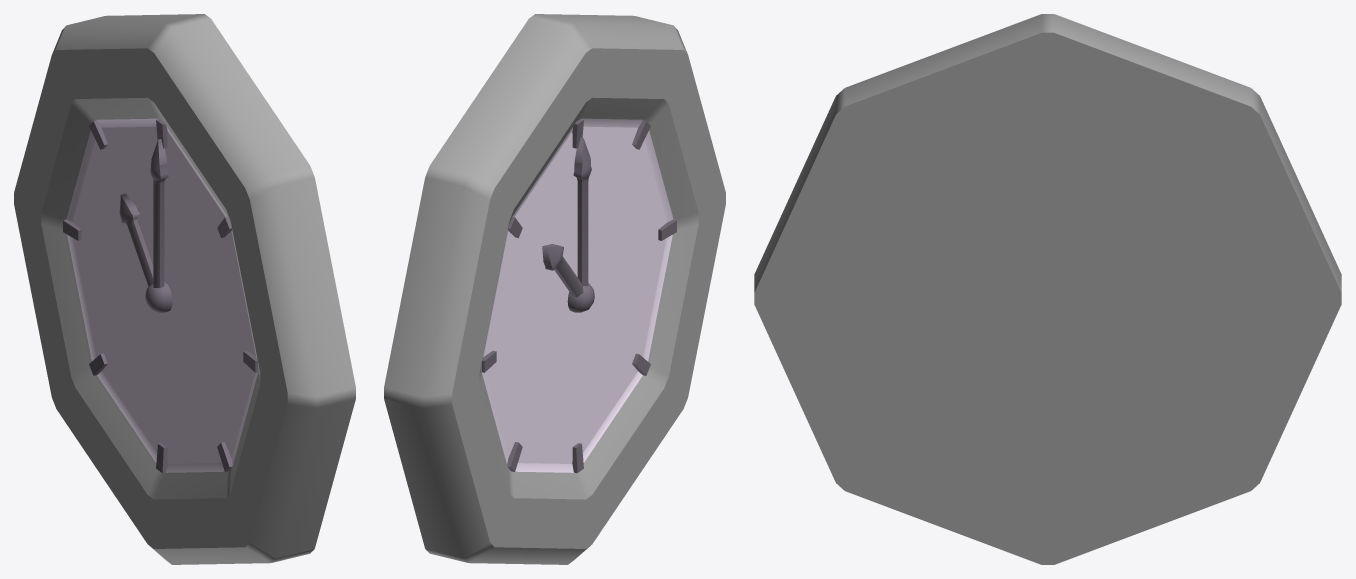
File: Clock_03.fbx
3 views of the same model, side by side, from view 1: azimuth 30°, elevation 25°; view 2: azimuth 150°, elevation 25°; view 3: azimuth 270°, elevation 25° (orthographic).
Visible parts, largest first — view 1: Clock_03; view 2: Clock_03; view 3: Clock_03.
Part boxes in pixels (box(x1,y1,x2,y2)): Clock_03: box(14, 14, 355, 564); Clock_03: box(384, 14, 725, 564); Clock_03: box(754, 14, 1341, 564).
Bounding box in the file's own units: 8.86 × 75.38 × 75.38.
2 materials, 1 textured.
